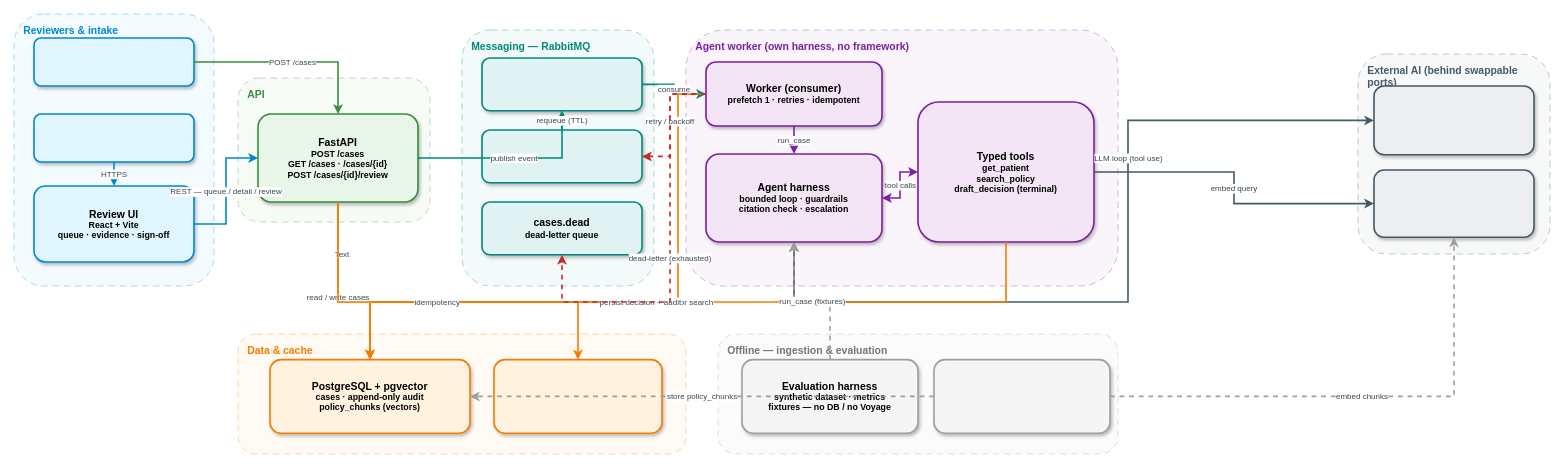
This 1564x468 diagram has some shape labels left out. Each missing label, with the centre of its shape:
"Anthropic — Claude agent reasoning (tool use)" goes at (1454,121).
"Case intake API client / upstream system" goes at (114,63).
"cases.process main queue" goes at (562,85).
"cases.retry TTL backoff" goes at (562,157).
"Clinical reviewer Browser" goes at (114,139).
"Policy ingestion PDF → chunks (page refs) → embeddings → pgvector" goes at (1022,397).
"Redis idempotency guard" goes at (578,397).
"Voyage AI voyage-3 embeddings" goes at (1454,204).
